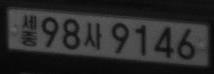1: (133, 23, 151, 55)
4: (153, 25, 175, 59)
6: (176, 28, 196, 60)
8: (62, 18, 81, 50)
9: (110, 21, 130, 53), (40, 16, 59, 47)
사: (83, 22, 103, 49)
세종_V: (21, 14, 38, 47)
